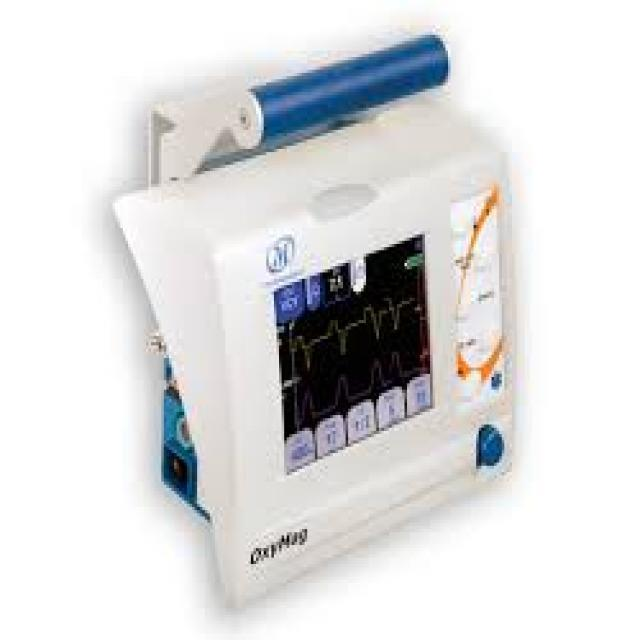cardiac_monitor: (159, 50, 535, 553)
